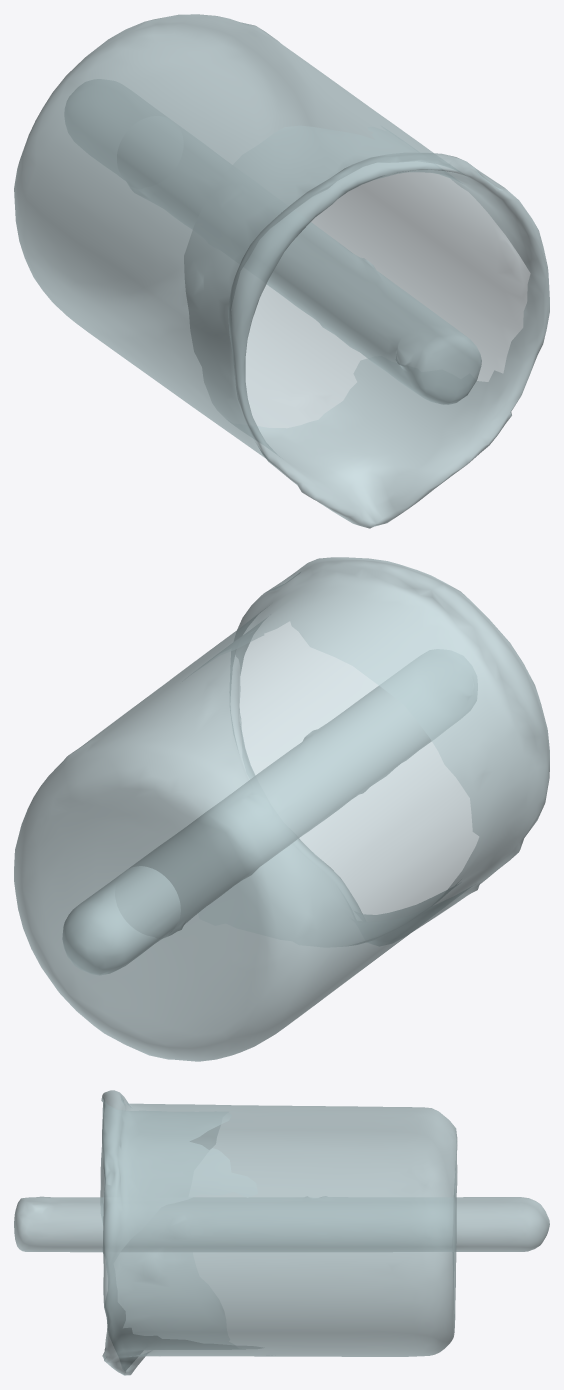
The picture shows the model from 3 angles, top to bottom: view 1: azimuth 30°, elevation 25°; view 2: azimuth 150°, elevation 25°; view 3: azimuth 270°, elevation 25°; orthographic projection. The views are drawn at different scales.
Visible parts, largest first — view 1: world; view 2: world; view 3: world.
Boxes of the visible parts, left/top/right/bottom form: world: left=14, top=14, right=549, bottom=528; world: left=14, top=557, right=549, bottom=1061; world: left=14, top=1090, right=549, bottom=1375.
Size of the model in its own units: 0.0738 by 0.0837 by 0.1502.
